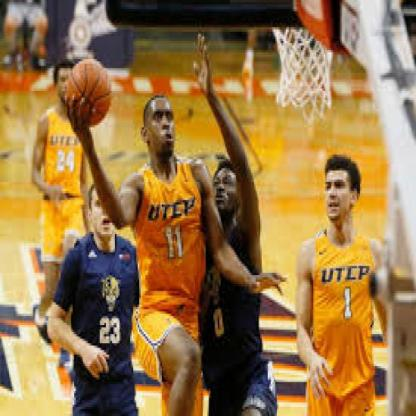basketball: (67, 58, 112, 130)
